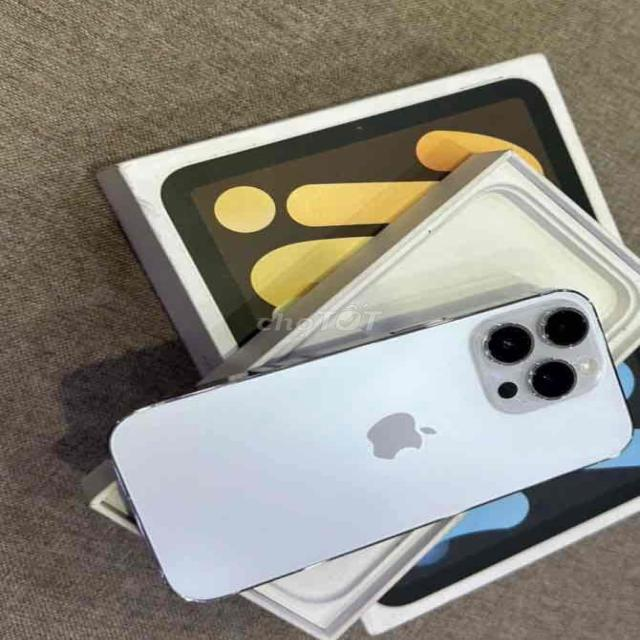gen_14: (62, 286, 635, 606)
